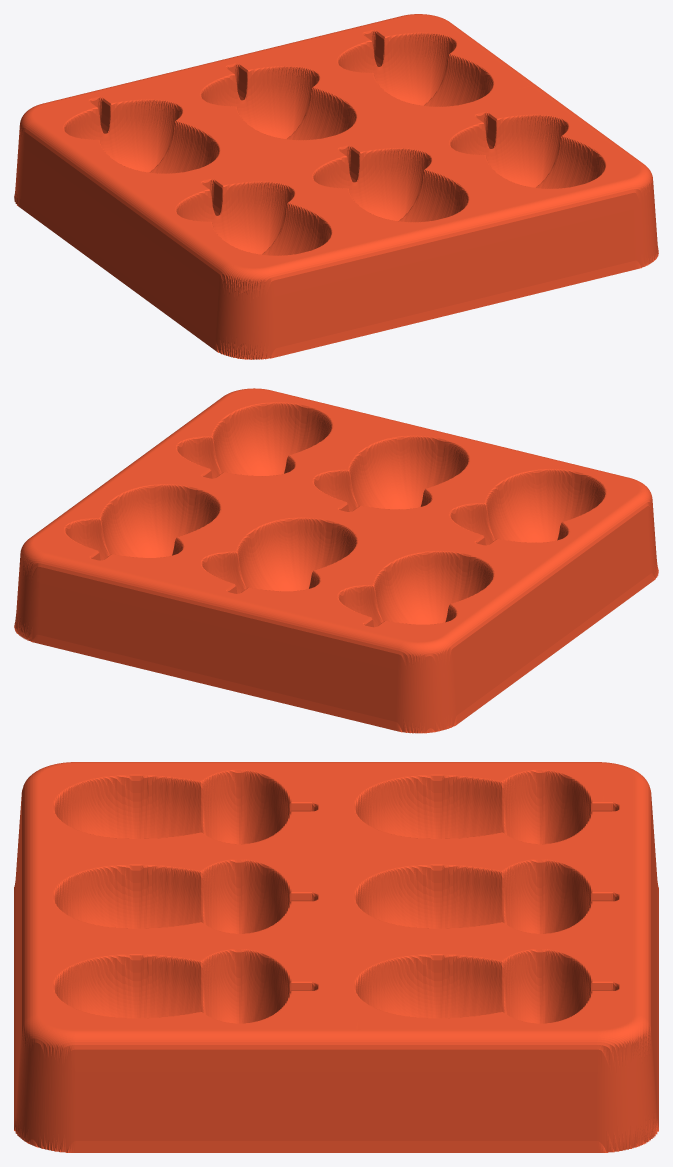
File: mold.glb
3 views of the same model, one above another, from view 1: azimuth 30°, elevation 25°; view 2: azimuth 150°, elevation 25°; view 3: azimuth 270°, elevation 25° (orthographic). The views are drawn at different scales.
Visible parts, largest first — view 1: geometry_0; view 2: geometry_0; view 3: geometry_0.
Boxes of the visible parts, bbox=[...] form: geometry_0: bbox=[14, 14, 658, 359]; geometry_0: bbox=[14, 388, 658, 733]; geometry_0: bbox=[14, 762, 658, 1152].
Bounding box in the file's own units: 0.0998 × 0.0182 × 0.0947.
